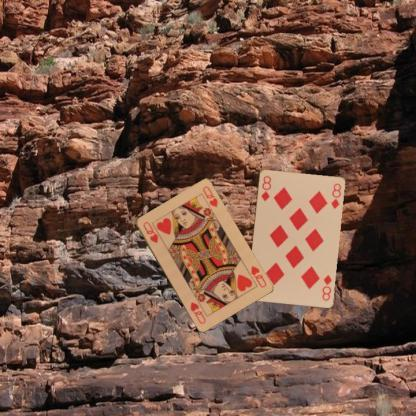8d: (258, 172, 272, 202), (319, 272, 333, 302)
Qh: (247, 263, 268, 289), (140, 219, 159, 244)
